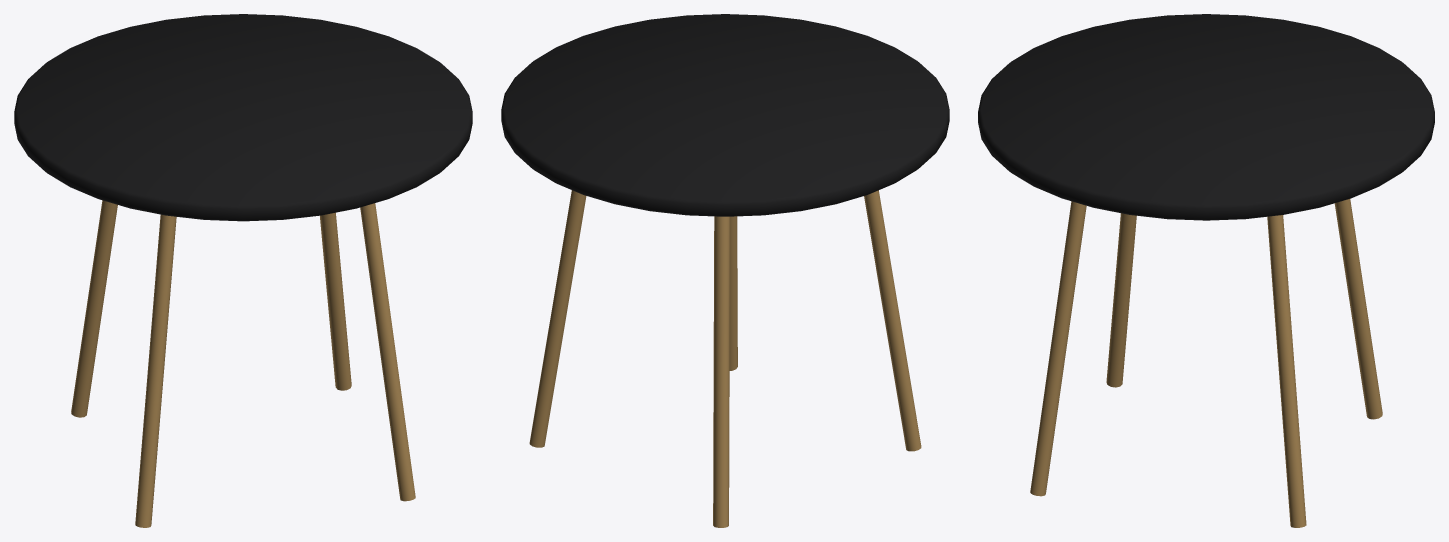
File: i_table_6.glb
3 views of the same model, side by side, from view 1: azimuth 30°, elevation 25°; view 2: azimuth 150°, elevation 25°; view 3: azimuth 270°, elevation 25° (orthographic). The views are drawn at different scales.
Parts seen in each view (by area): view 1: o, o.003, o.004, o.002, o.001; view 2: o, o.002, o.003, o.001, o.004; view 3: o, o.001, o.004, o.002, o.003.
Part boxes in pixels (box(x1,y1,x2,y2)): o: box(14, 14, 472, 221); o.003: box(135, 214, 176, 527); o.004: box(360, 203, 415, 501); o.002: box(71, 200, 117, 417); o.001: box(320, 212, 351, 390); o: box(501, 14, 949, 216); o.002: box(713, 216, 729, 527); o.003: box(864, 190, 921, 451); o.001: box(529, 190, 586, 447); o.004: box(729, 216, 737, 370); o: box(978, 14, 1434, 220); o.001: box(1267, 215, 1306, 527); o.004: box(1030, 201, 1086, 496); o.002: box(1334, 199, 1382, 419); o.003: box(1106, 213, 1136, 387).
Bounding box in the file's own units: 0.9 × 0.7523 × 0.9.
